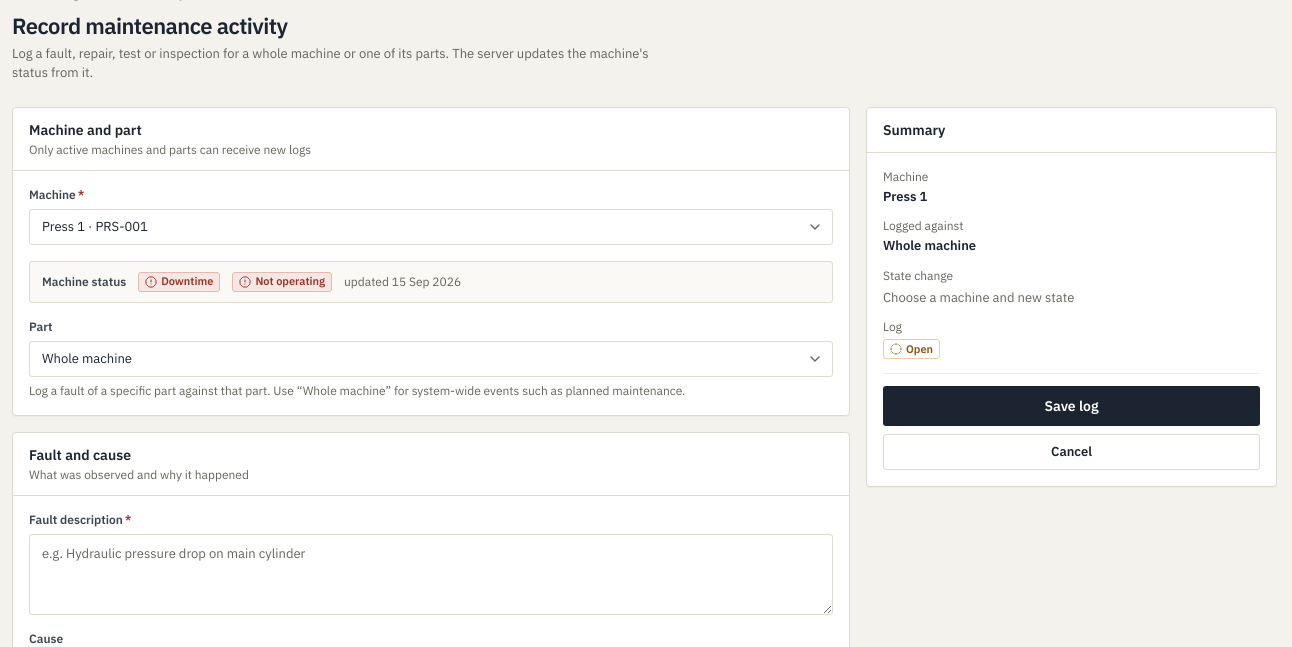
Test: Record maintenance activity › part events › switches the current state and the allowed states to the chosen part's
Expected: the text "Machine status" is shown, [42,274,126,290]
Select "PMP-01 – Hydraulic pump (critical)" in the dropdown labelled "Part": (431, 358) [29,340,833,376]
(page scrolled)
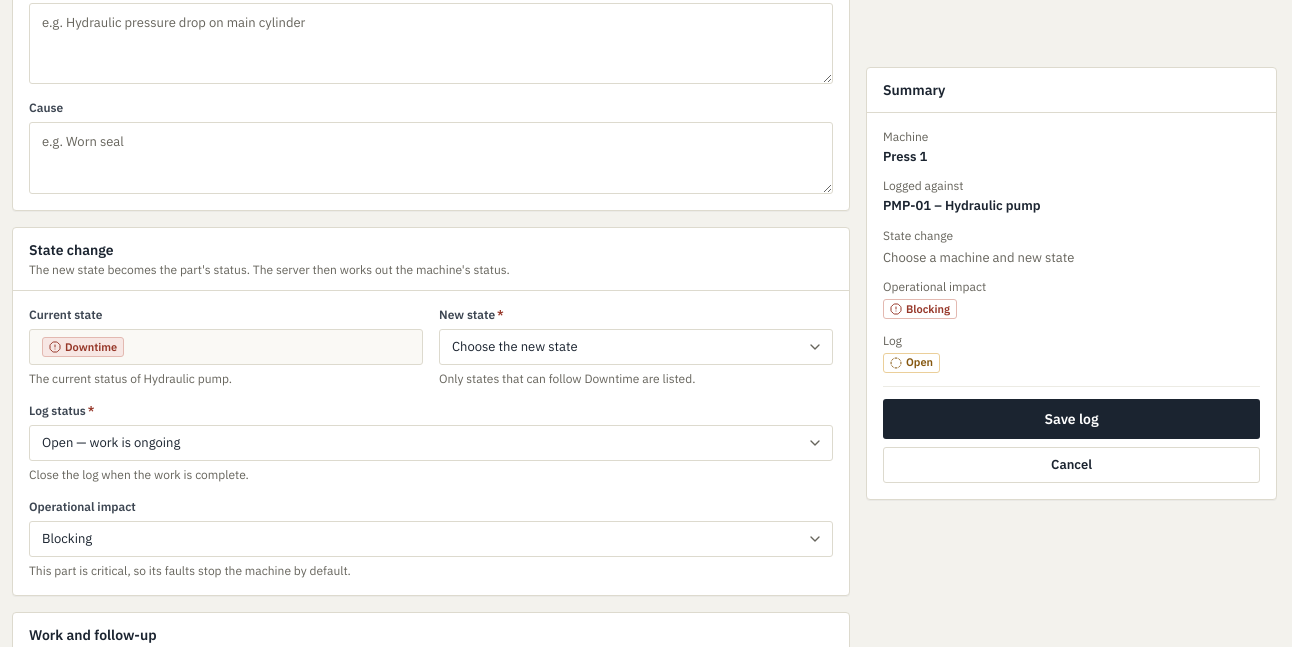
Now the text "Downtime" is shown, box [65,339,117,355]
